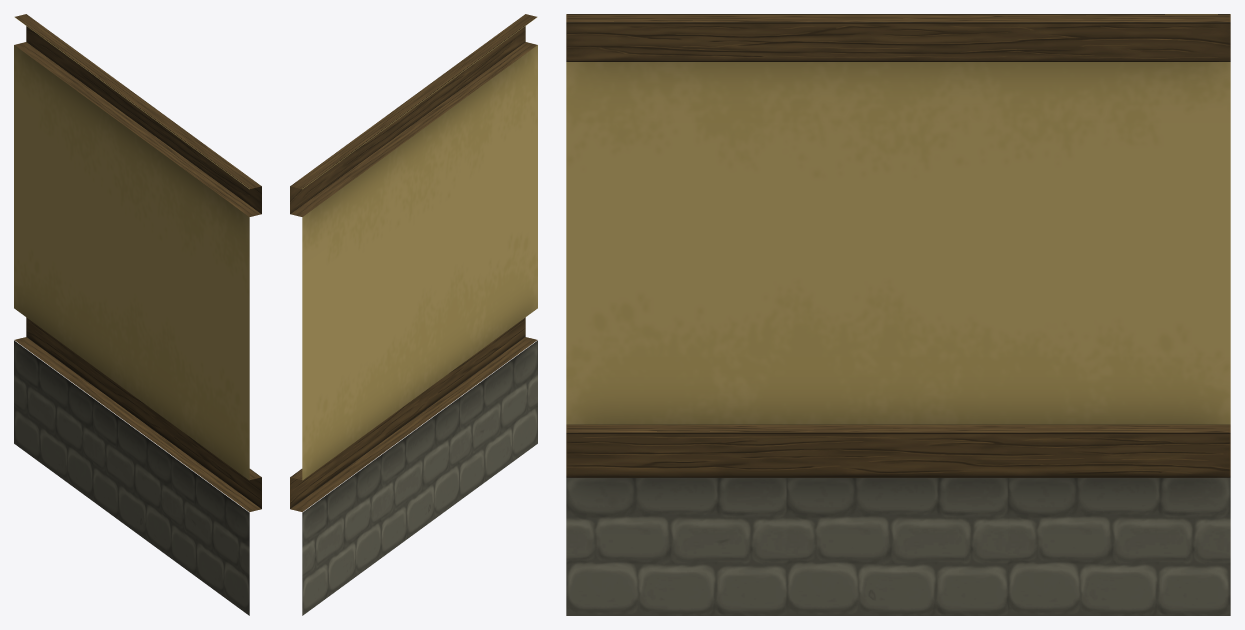
Rendered from sciana_01.fbx.
The picture shows the model from 3 angles, left to right: view 1: azimuth 30°, elevation 25°; view 2: azimuth 150°, elevation 25°; view 3: azimuth 270°, elevation 25°; orthographic projection. The views are drawn at different scales.
Visible parts, largest first — view 1: Plane; view 2: Plane; view 3: Plane.
Boxes of the visible parts, bbox=[...] form: Plane: bbox=[14, 14, 261, 615]; Plane: bbox=[290, 14, 537, 615]; Plane: bbox=[566, 14, 1230, 615].
Size of the model in its own units: 30.1 by 1000 by 1000.
